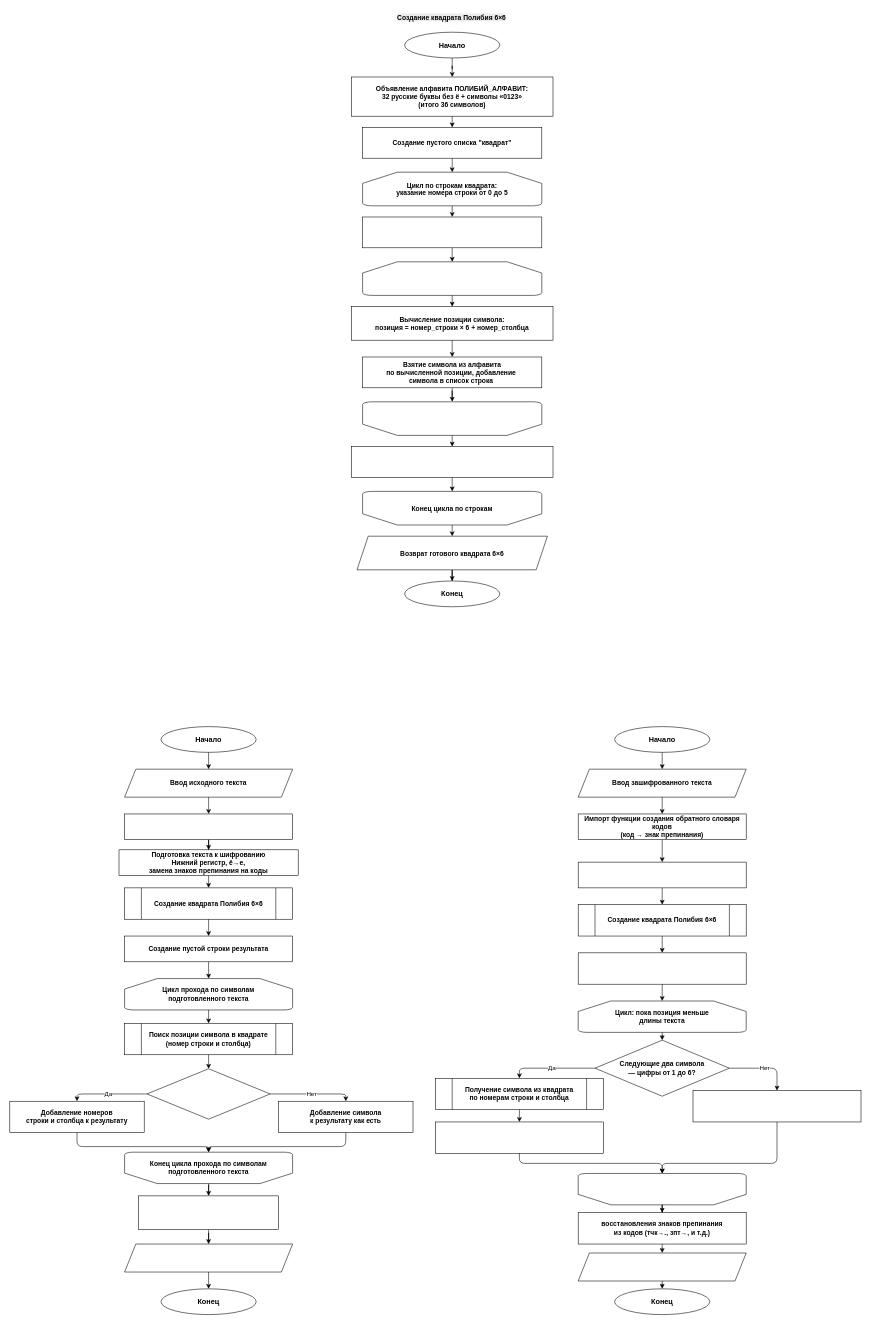
Some shapes in this 871 by 1324 pixel diagram are drawn without their labels. The shapes that lost their labels are listed below. From the top down, each one's centre as x and y in pixels, then its label:
At point (452, 232): "Создание пустого списка строки".
At point (452, 278): "Цикл по столбцам квадрата: указание номера столбца от 0 до 5".
At point (452, 418): "Конец цикла по столбцам".
At point (452, 461): "Добавление списка строки в список квадрата".
At point (208, 826): "Импорт функции создания словаря знаков препинания".
At point (662, 875): "Удаление пробелов из текста".
At point (662, 968): "Создание пустой строки результата, позиция = 0".
At point (208, 1093): "Символ найден в квадрате?".
At point (776, 1106): "Добавление символа к результату как есть, позиция + 1".
At point (519, 1137): "Добавление символа к результату, позиция + 2".
At point (662, 1189): "Конец цикла: пока позиция меньше длины текста".
At point (208, 1212): "Импорт функции разбивки результата на группы по 5 символов".
At point (208, 1257): "Вывод зашифрованного текста".
At point (662, 1266): "Вывод расшифрованного текста".
